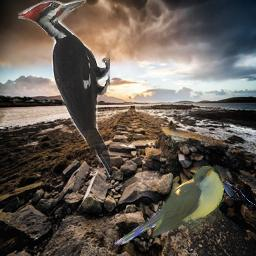Cuckoo: (113, 166, 224, 245), (219, 179, 256, 208)
Woodpecker: (18, 0, 110, 179)
